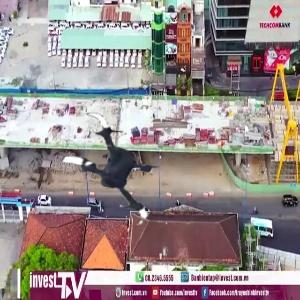drone: (45, 108, 170, 233)
